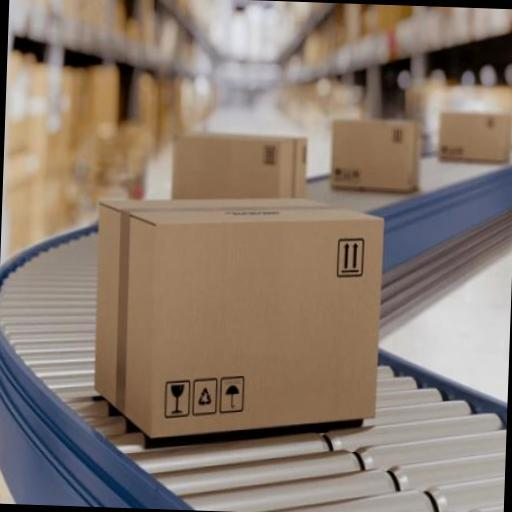undamaged: (78, 166, 394, 447), (324, 92, 434, 172)
